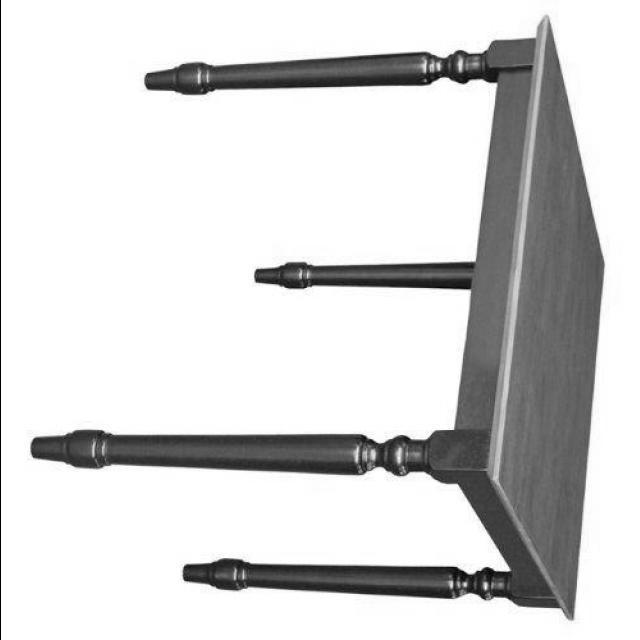table: (27, 16, 607, 618)
